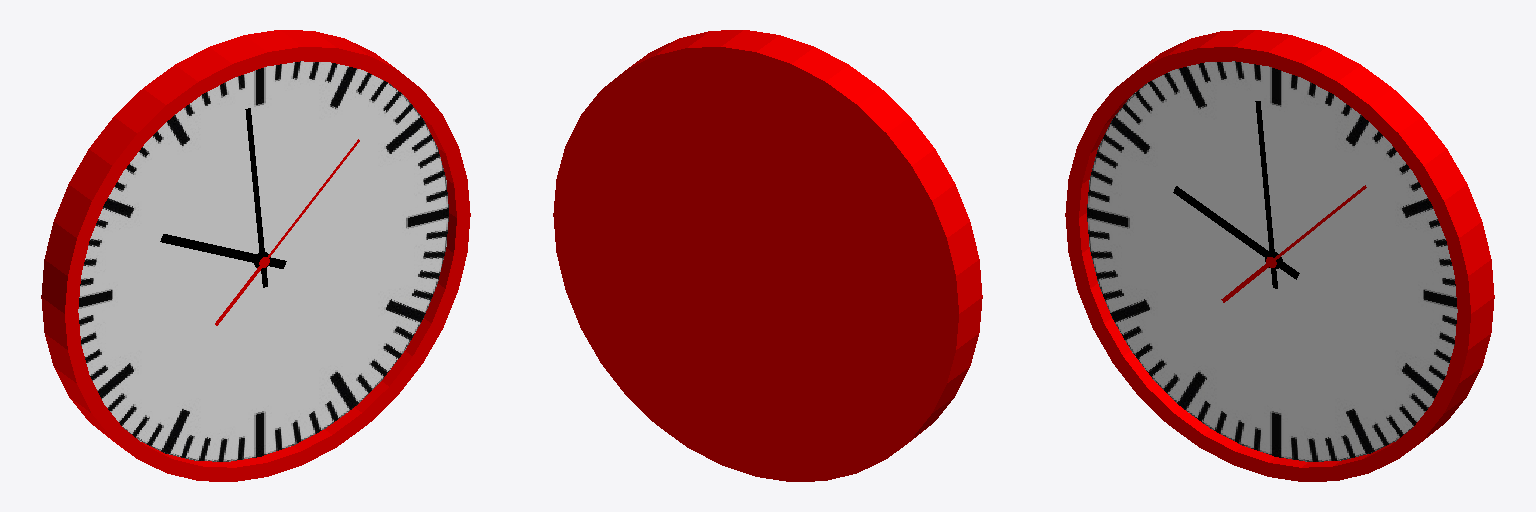
The picture shows the model from 3 angles: view 1: azimuth 30°, elevation 25°; view 2: azimuth 150°, elevation 25°; view 3: azimuth 330°, elevation 25°; orthographic projection.
Parts seen in each view (by area): view 1: face, frame, sweethome3d_opening_on_hinge_1, sweethome3d_opening_on_hinge_2, sweethome3d_opening_on_hinge_3; view 2: back, frame; view 3: face, frame, sweethome3d_opening_on_hinge_1, sweethome3d_opening_on_hinge_2, sweethome3d_opening_on_hinge_3.
Part boxes in pixels (bbox=[...]): face: bbox=[78, 61, 448, 461]; frame: bbox=[41, 30, 470, 481]; sweethome3d_opening_on_hinge_1: bbox=[160, 234, 286, 268]; sweethome3d_opening_on_hinge_2: bbox=[245, 108, 270, 287]; sweethome3d_opening_on_hinge_3: bbox=[215, 139, 359, 325]; back: bbox=[553, 47, 958, 481]; frame: bbox=[628, 30, 982, 455]; face: bbox=[1087, 61, 1457, 461]; frame: bbox=[1065, 30, 1494, 481]; sweethome3d_opening_on_hinge_1: bbox=[1173, 186, 1299, 279]; sweethome3d_opening_on_hinge_2: bbox=[1255, 101, 1280, 288]; sweethome3d_opening_on_hinge_3: bbox=[1221, 185, 1366, 302].
Size of the model in its own units: 30 by 30 by 3.
Materials: 6 (1 with a texture image).